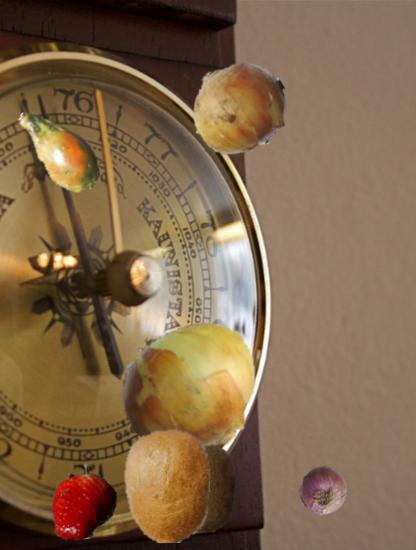Cactus: (9, 97, 111, 199)
Kiwi: (109, 427, 226, 544), (156, 440, 249, 533)
Onion: (121, 316, 265, 460), (190, 59, 290, 159), (298, 466, 349, 517)
Strawberry: (47, 463, 124, 540)
